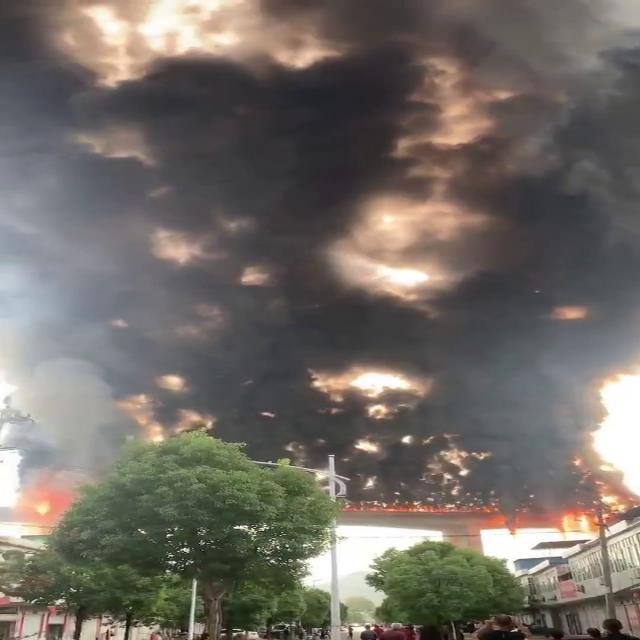Fire: (356, 492, 596, 532), (21, 488, 69, 530)
Smoke: (26, 23, 640, 485)
